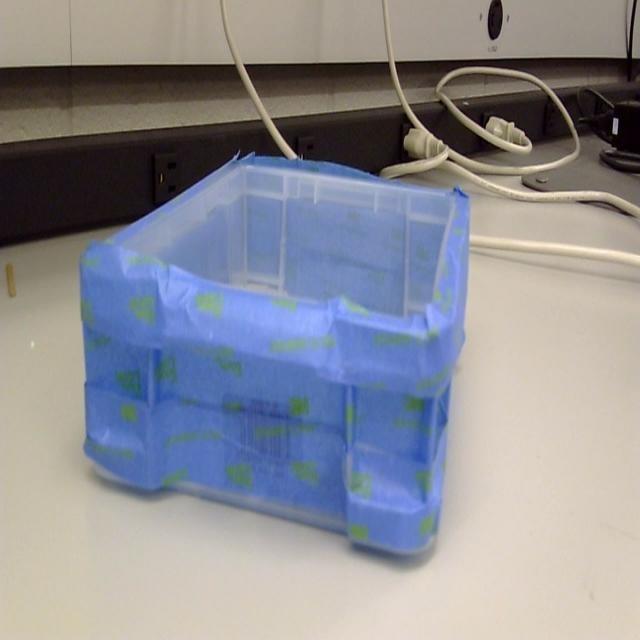bucket: (78, 156, 472, 567)
